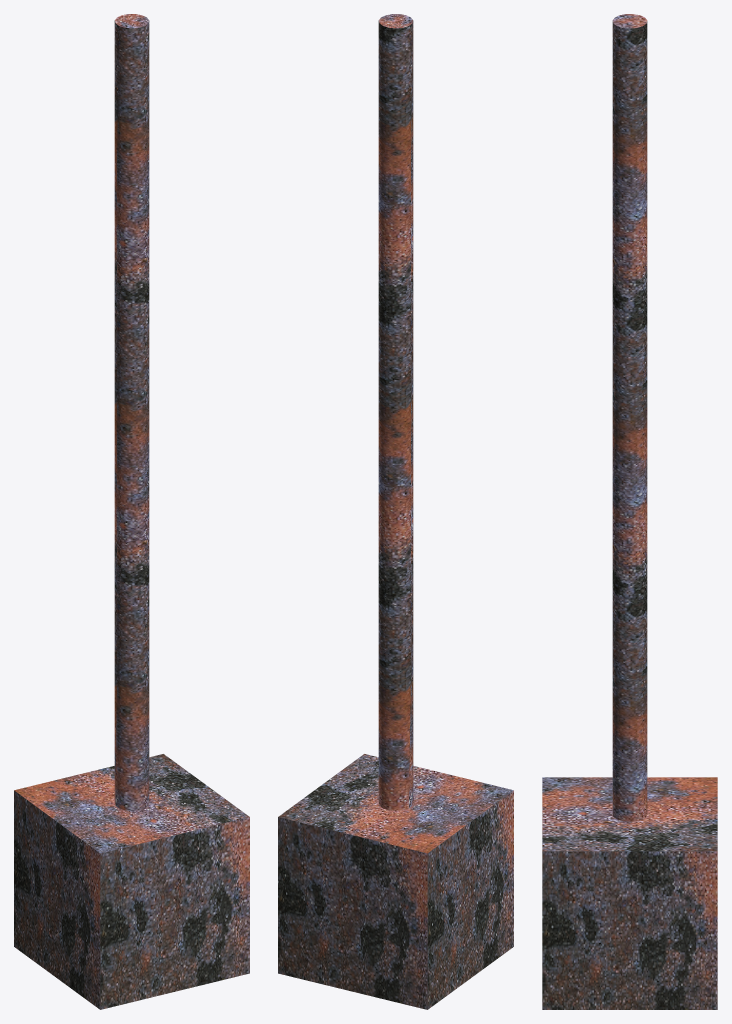
3 renders of one model, left to right at view 1: azimuth 30°, elevation 25°; view 2: azimuth 150°, elevation 25°; view 3: azimuth 270°, elevation 25°, orthographic.
Parts seen in each view (by area): view 1: Tubo+caixa; view 2: Tubo+caixa; view 3: Tubo+caixa.
Part boxes in pixels (x1,y1,x2,y2): Tubo+caixa: (14,14,249,1009); Tubo+caixa: (278,14,513,1009); Tubo+caixa: (542,14,717,1009).
Bounding box in the file's own units: 1 × 1 × 6.
